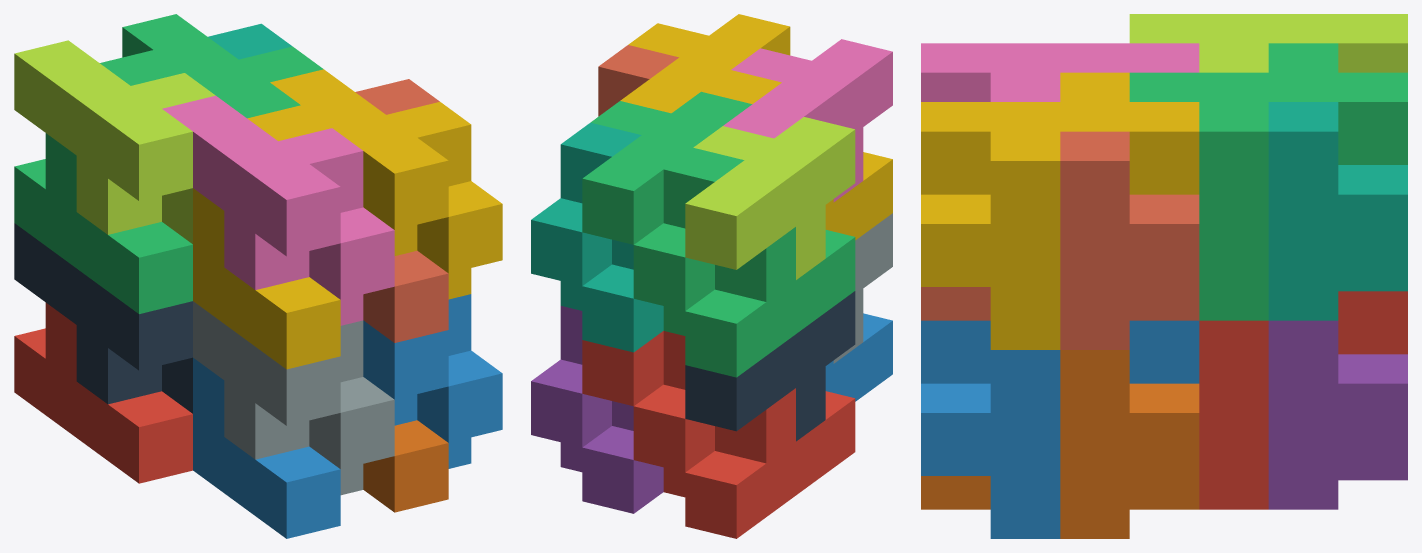
The model's file is tiling.obj.
3 renders of one model, left to right at view 1: azimuth 30°, elevation 25°; view 2: azimuth 150°, elevation 25°; view 3: azimuth 270°, elevation 25°, orthographic. The views are drawn at different scales.
Parts seen in each view (by area): view 1: copy_2_domain_4, copy_2_domain_3, copy_2_domain_8, copy_2_domain_2, copy_1_domain_3, copy_2_domain_1, copy_1_domain_1, copy_1_domain_4, copy_2_domain_6, copy_1_domain_2, copy_2_domain_7, copy_1_domain_8 (+2 smaller); view 2: copy_1_domain_3, copy_1_domain_1, copy_2_domain_3, copy_1_domain_7, copy_1_domain_5, copy_2_domain_7, copy_2_domain_4, copy_2_domain_1, copy_2_domain_8, copy_1_domain_4, copy_2_domain_5, copy_1_domain_2 (+2 smaller); view 3: copy_2_domain_8, copy_2_domain_6, copy_2_domain_7, copy_1_domain_8, copy_1_domain_6, copy_1_domain_7, copy_1_domain_5, copy_2_domain_5, copy_2_domain_4, copy_2_domain_3, copy_1_domain_3, copy_1_domain_4.
Part boxes in pixels (x1,y1,x2,y2): copy_2_domain_4: (162,95,394,325); copy_2_domain_3: (14,40,215,243); copy_2_domain_8: (270,69,502,299); copy_2_domain_2: (193,301,394,495); copy_1_domain_3: (14,50,192,313); copy_2_domain_1: (14,223,192,413); copy_1_domain_1: (14,302,192,483); copy_1_domain_4: (193,105,340,369); copy_2_domain_6: (363,294,502,468); copy_1_domain_2: (193,358,340,538); copy_2_domain_7: (122,14,323,118); copy_1_domain_8: (355,79,448,342); copy_1_domain_3: (633,147,855,377); copy_1_domain_1: (633,331,855,538); copy_2_domain_3: (685,117,855,279); copy_1_domain_7: (531,122,663,352); copy_1_domain_5: (531,306,663,513); copy_2_domain_7: (582,91,752,244); copy_2_domain_4: (723,39,892,202); copy_2_domain_1: (685,291,855,441); copy_2_domain_8: (620,14,790,113); copy_1_domain_4: (701,70,892,240); copy_2_domain_5: (582,331,663,406); copy_1_domain_2: (825,313,892,401); copy_2_domain_8: (921,102,1199,349); copy_2_domain_6: (921,320,1199,538); copy_2_domain_7: (1129,72,1407,320); copy_1_domain_8: (921,131,1199,349); copy_1_domain_6: (921,350,1199,538); copy_1_domain_7: (1268,102,1407,320); copy_1_domain_5: (1268,320,1407,509); copy_2_domain_5: (1199,291,1407,509); copy_2_domain_4: (921,43,1199,101); copy_2_domain_3: (1129,14,1407,72); copy_1_domain_3: (1268,43,1338,72); copy_1_domain_4: (1060,72,1129,101).
Bounding box in the file's own units: 5 × 6 × 7.
